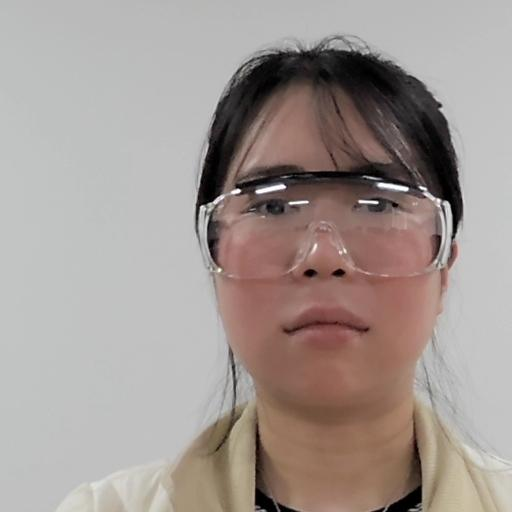glasses: (191, 38, 469, 400)
